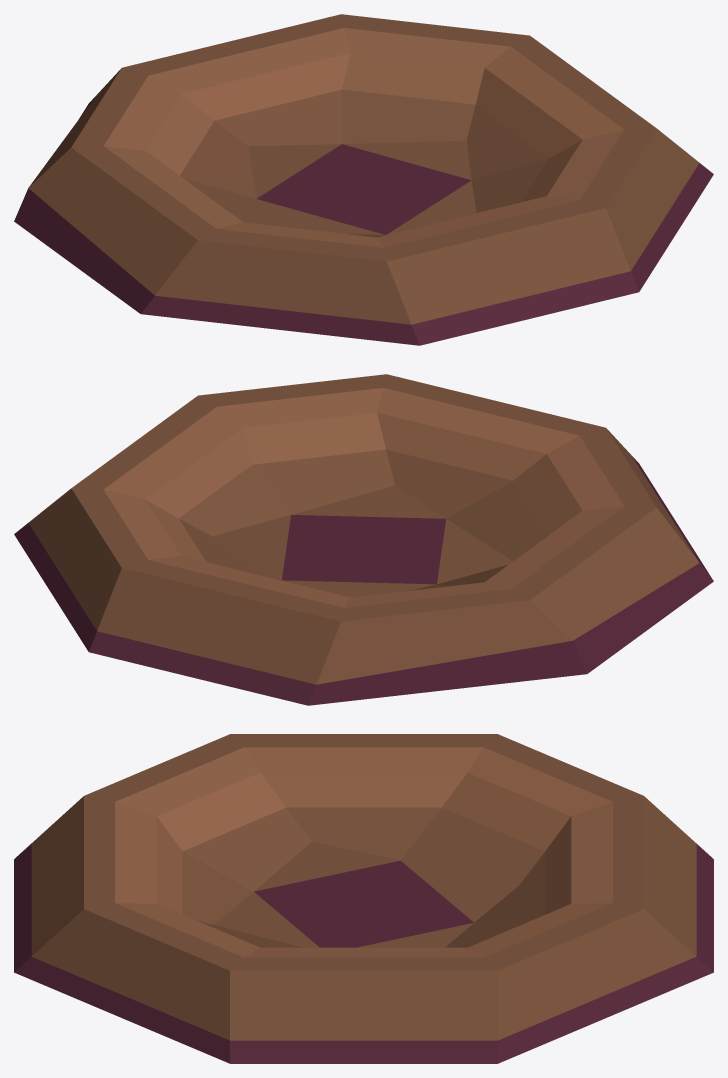
The model's file is end.obj.
3 renders of one model, top to bottom at view 1: azimuth 30°, elevation 25°; view 2: azimuth 150°, elevation 25°; view 3: azimuth 270°, elevation 25°, orthographic. The views are drawn at different scales.
Visible parts, largest first — view 1: Cube; view 2: Cube; view 3: Cube.
Boxes of the visible parts, bbox=[...] form: Cube: bbox=[14, 14, 713, 345]; Cube: bbox=[14, 374, 713, 705]; Cube: bbox=[14, 734, 713, 1063].
Bounding box in the file's own units: 2 × 0.2 × 2.
1 material, 1 textured.
